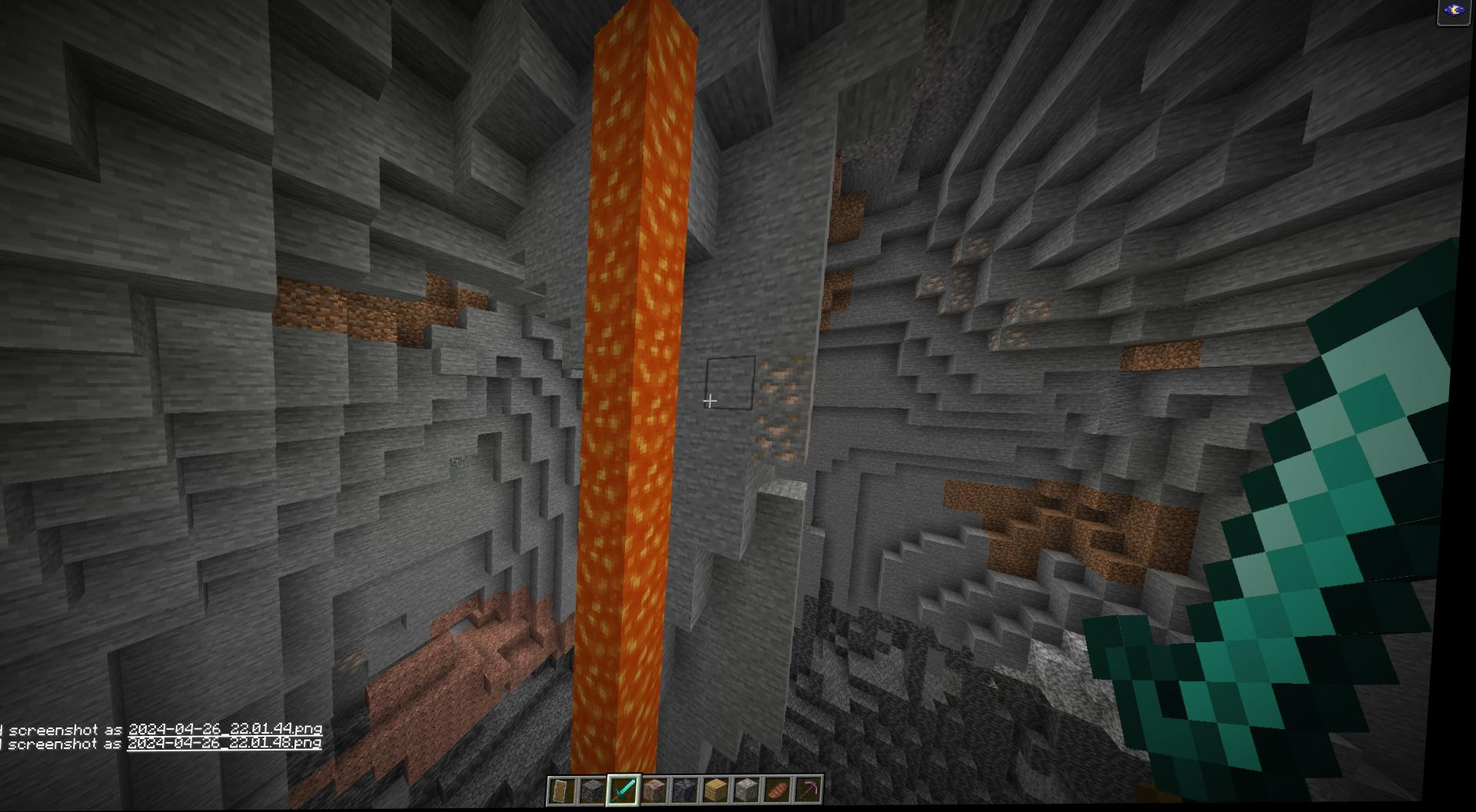iron ore: (927, 269, 984, 314), (763, 357, 816, 400), (761, 410, 804, 462), (1012, 298, 1061, 331), (962, 231, 999, 259), (998, 325, 1029, 357)
